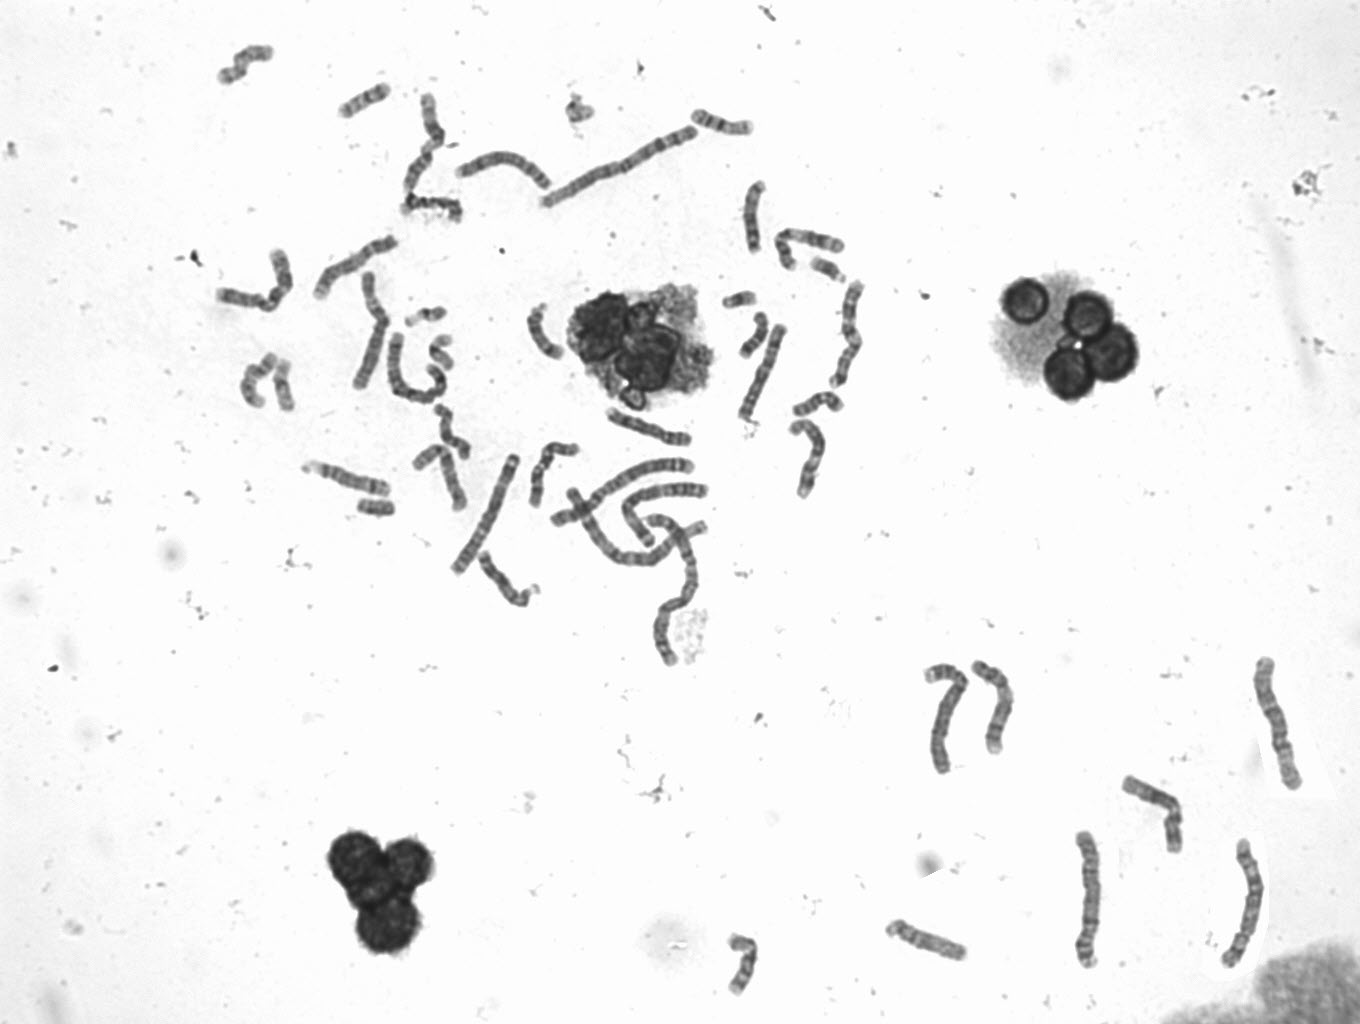chromosomes: (538, 120, 704, 215), (560, 480, 702, 572), (629, 503, 699, 670), (545, 459, 703, 527), (447, 451, 525, 584), (1251, 648, 1314, 802), (921, 654, 978, 792), (207, 244, 303, 319), (1218, 834, 1269, 975), (1120, 767, 1189, 866), (618, 480, 717, 549), (310, 230, 402, 302), (731, 321, 791, 424), (1071, 825, 1114, 969), (395, 93, 446, 207), (829, 278, 879, 388), (349, 267, 393, 394), (381, 330, 450, 406), (415, 440, 474, 527), (973, 654, 1019, 763), (524, 437, 588, 513), (455, 148, 555, 196), (883, 913, 975, 964), (479, 547, 544, 617), (609, 404, 698, 451), (768, 226, 848, 275), (211, 42, 286, 91), (788, 413, 827, 507), (306, 463, 401, 499), (522, 301, 569, 365), (433, 402, 481, 464), (238, 346, 282, 411), (722, 930, 762, 1000), (400, 191, 471, 229), (744, 176, 775, 259), (334, 83, 397, 119), (689, 105, 759, 137), (274, 355, 306, 422), (733, 310, 772, 362), (349, 494, 405, 528), (792, 388, 847, 423), (391, 303, 456, 329), (429, 335, 463, 378), (562, 88, 600, 126), (815, 255, 849, 291), (715, 291, 760, 311)
